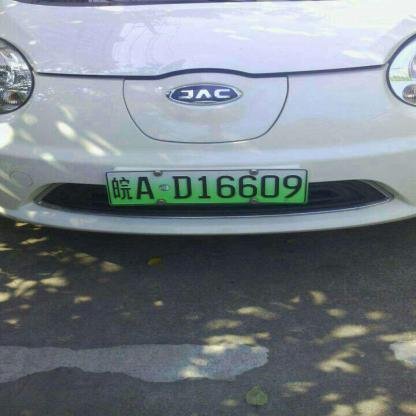lp: (106, 169, 305, 205)
